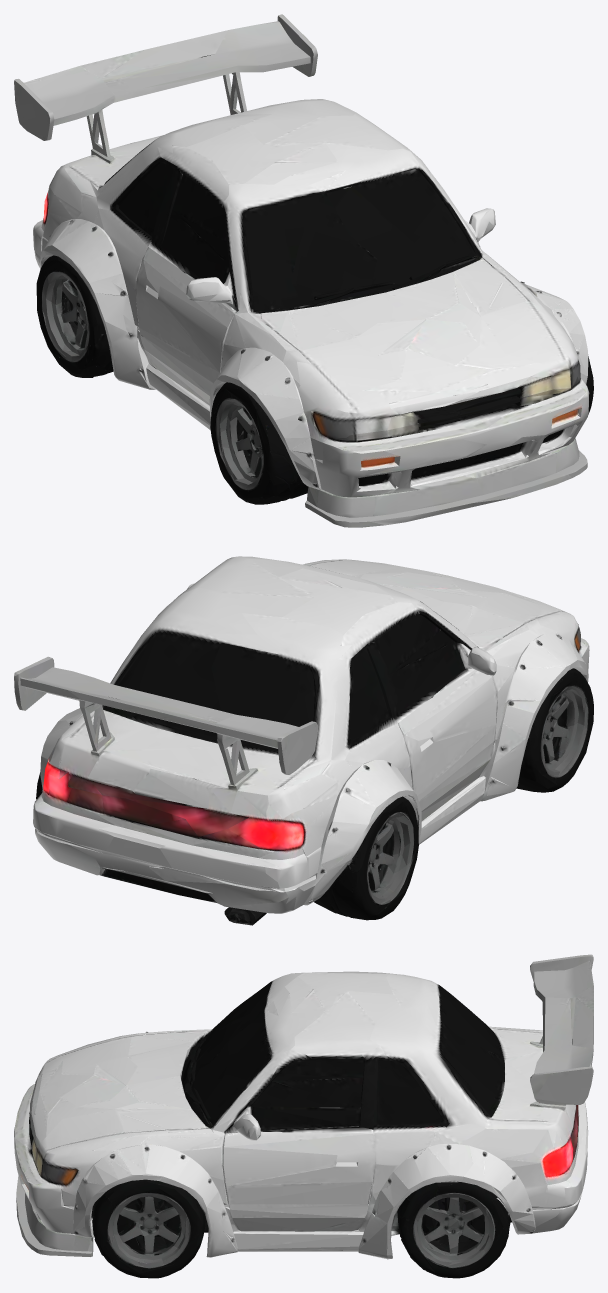
The model's file is tuner.glb.
3 renders of one model, top to bottom at view 1: azimuth 30°, elevation 25°; view 2: azimuth 150°, elevation 25°; view 3: azimuth 270°, elevation 25°, orthographic. The views are drawn at different scales.
Visible parts, largest first — view 1: tuner; view 2: tuner; view 3: tuner.
Boxes of the visible parts, x1,y1,x2,y2 form: tuner: [14, 14, 593, 527]; tuner: [14, 556, 593, 925]; tuner: [14, 954, 593, 1278].
Bounding box in the file's own units: 2.56 × 1.81 × 4.5.
Materials: 1 (1 with a texture image).
